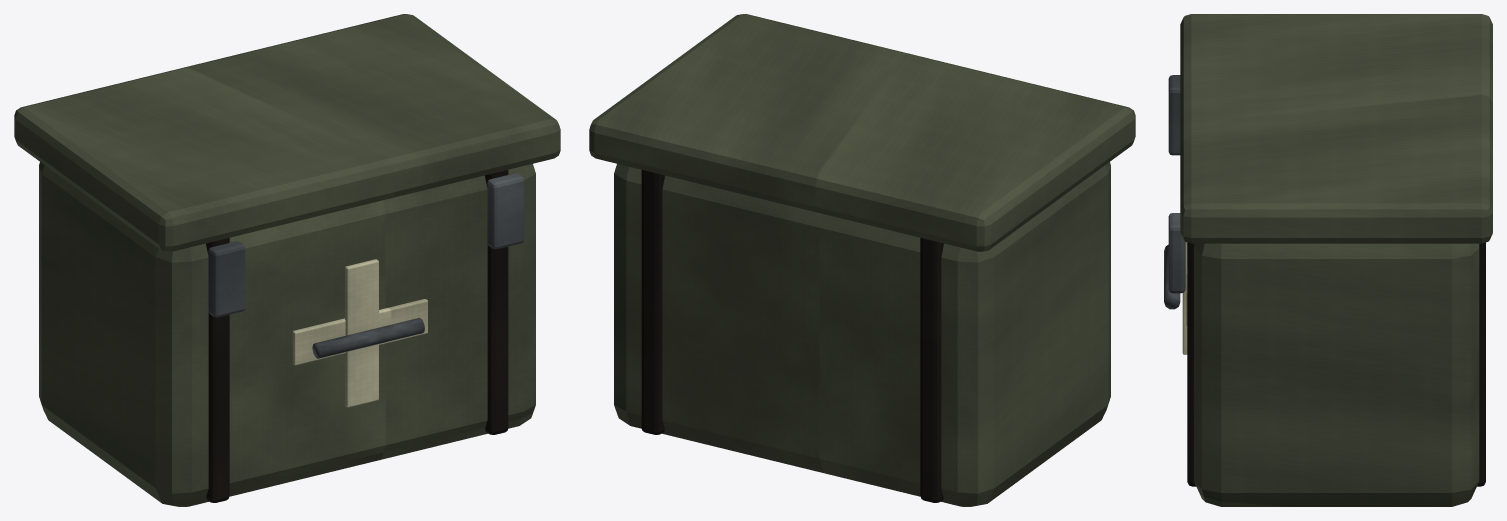
The model's file is med_crate.glb.
3 views of the same model, side by side, from view 1: azimuth 30°, elevation 25°; view 2: azimuth 150°, elevation 25°; view 3: azimuth 270°, elevation 25° (orthographic).
Visible parts, largest first — view 1: Ribbed_supply_case.001, Sealed_lid.001, Medical_cross.001, Corner_rib.006, Corner_rib.004, Latch.002, Latch.003, Medical_cross, Carry_handle.001; view 2: Ribbed_supply_case.001, Sealed_lid.001, Corner_rib.007, Corner_rib.005; view 3: Ribbed_supply_case.001, Sealed_lid.001, Corner_rib.006, Corner_rib.007, Latch.003, Latch.002, Carry_handle.001, Medical_cross.001.
Boxes of the visible parts, box(x1,y1,x2,y2) form: Ribbed_supply_case.001: box(39, 162, 535, 506); Sealed_lid.001: box(14, 14, 560, 251); Medical_cross.001: box(345, 259, 378, 407); Corner_rib.006: box(485, 170, 508, 434); Corner_rib.004: box(206, 238, 229, 502); Latch.002: box(208, 241, 245, 317); Latch.003: box(487, 173, 524, 249); Medical_cross: box(292, 299, 427, 365); Carry_handle.001: box(312, 317, 424, 358); Ribbed_supply_case.001: box(614, 162, 1110, 506); Sealed_lid.001: box(589, 14, 1135, 251); Corner_rib.007: box(641, 170, 664, 434); Corner_rib.005: box(920, 238, 943, 502); Ribbed_supply_case.001: box(1194, 243, 1479, 506); Sealed_lid.001: box(1180, 14, 1492, 243); Corner_rib.006: box(1187, 242, 1195, 486); Corner_rib.007: box(1477, 242, 1485, 486); Latch.003: box(1168, 213, 1185, 293); Latch.002: box(1168, 75, 1180, 155); Carry_handle.001: box(1164, 244, 1180, 309); Medical_cross.001: box(1182, 242, 1187, 354).
Size of the model in its own units: 0.69 by 0.5125 by 0.484.
4 materials, 4 textured.
